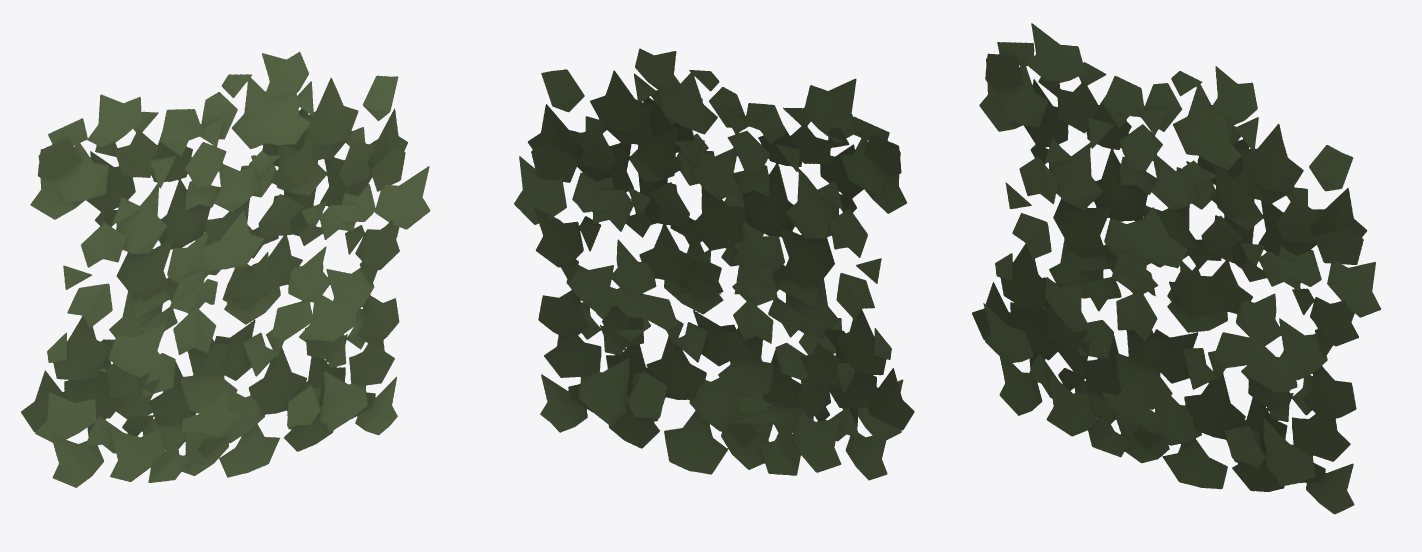
Rendered from SM_Env_Vines_03.fbx.
The picture shows the model from 3 angles, left to right: view 1: azimuth 30°, elevation 25°; view 2: azimuth 150°, elevation 25°; view 3: azimuth 330°, elevation 25°; orthographic projection. The views are drawn at different scales.
Visible parts, largest first — view 1: SM_Env_Vines_03; view 2: SM_Env_Vines_03; view 3: SM_Env_Vines_03.
Part boxes in pixels (x1,y1,x2,y2): SM_Env_Vines_03: [21, 51, 430, 487]; SM_Env_Vines_03: [514, 48, 914, 480]; SM_Env_Vines_03: [972, 23, 1381, 514].
Bounding box in the file's own units: 198 × 193 × 23.27.
